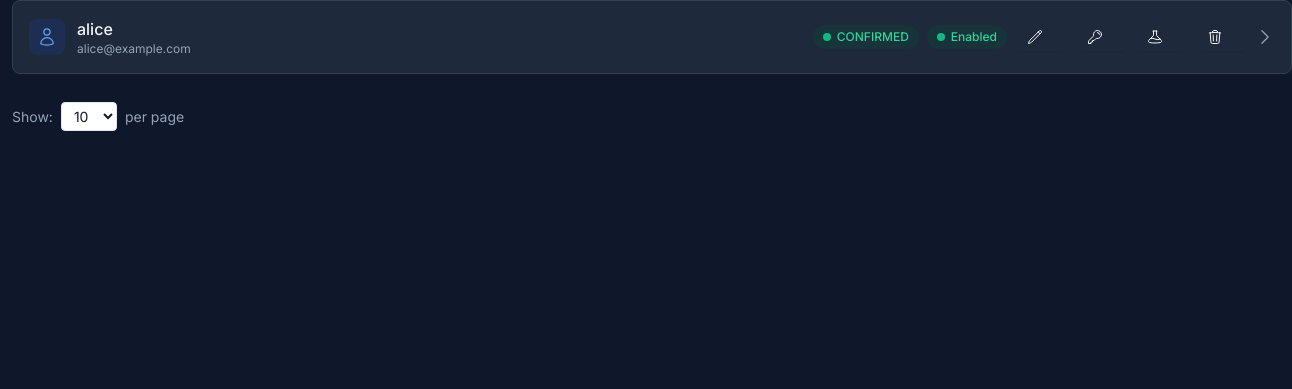
Cognito Components Integration › CognitoUserList › expands and collapses on row click (reactive)
This screenshot has width=1292, height=389.
Expected: the text "Last Modified" is not shown
Click the element with class "cursor-pointer" that starts with "alice". click: (47, 37)
box: [29,19,1275,56]
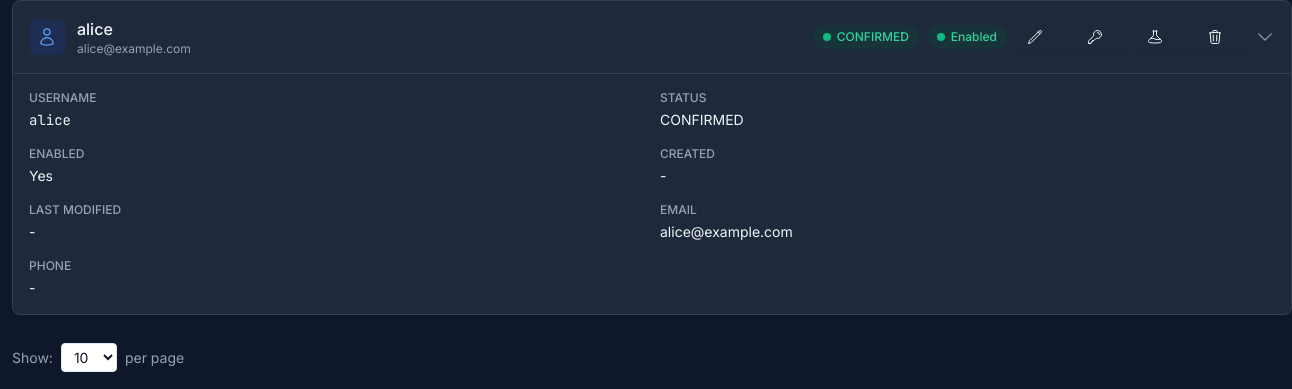
Now the text "Last Modified" is shown, box [29,202,121,217]
Click the element with class "cursor-pointer" that starts with "alice". click: (47, 37)
box: [29,19,1275,56]
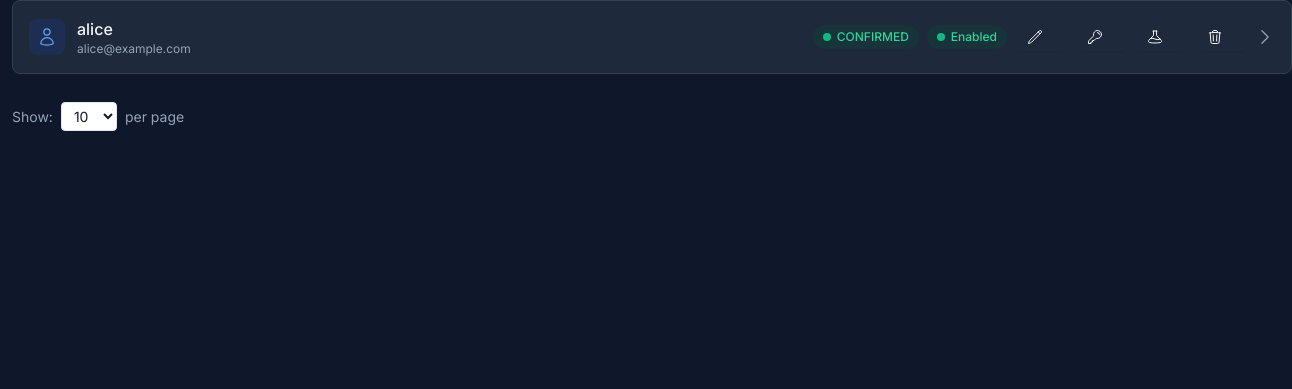
Now the text "Last Modified" is gone
